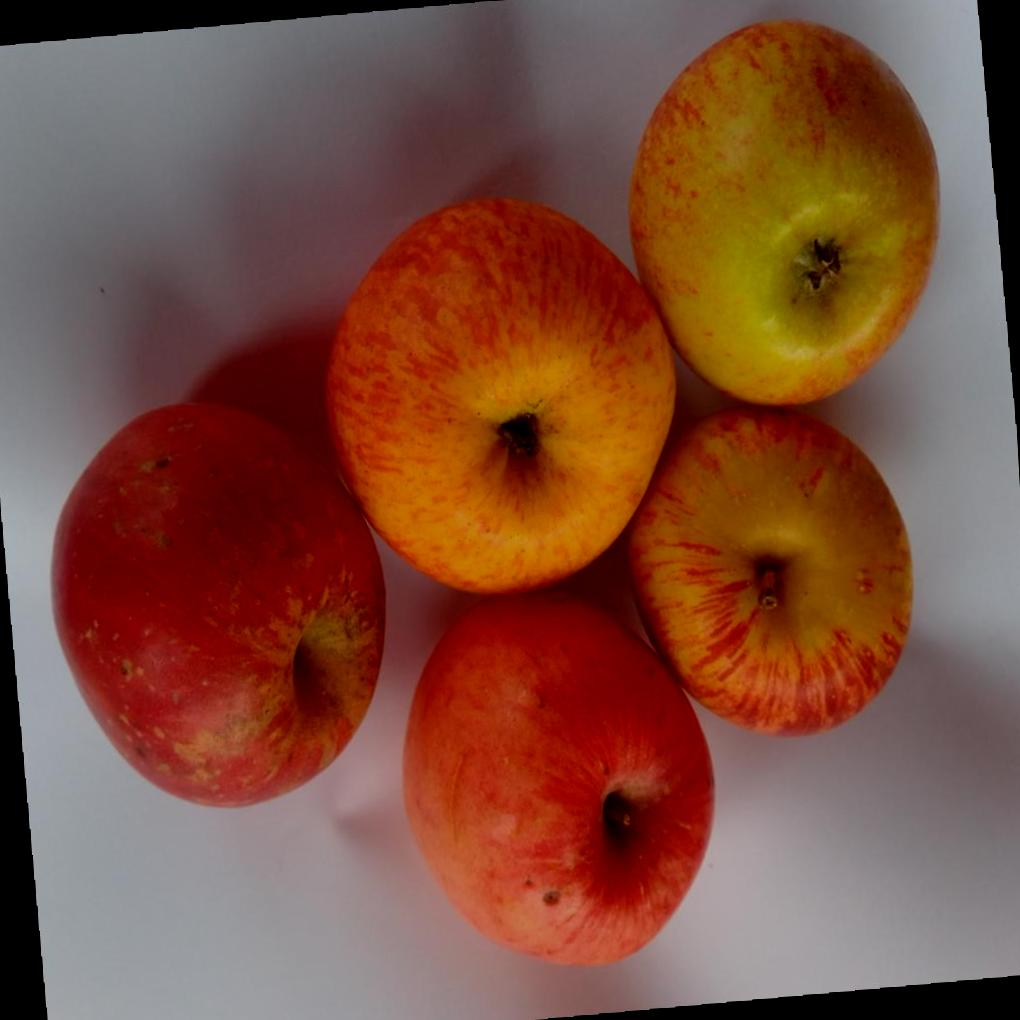FreshGuava: (54, 19, 941, 971)
